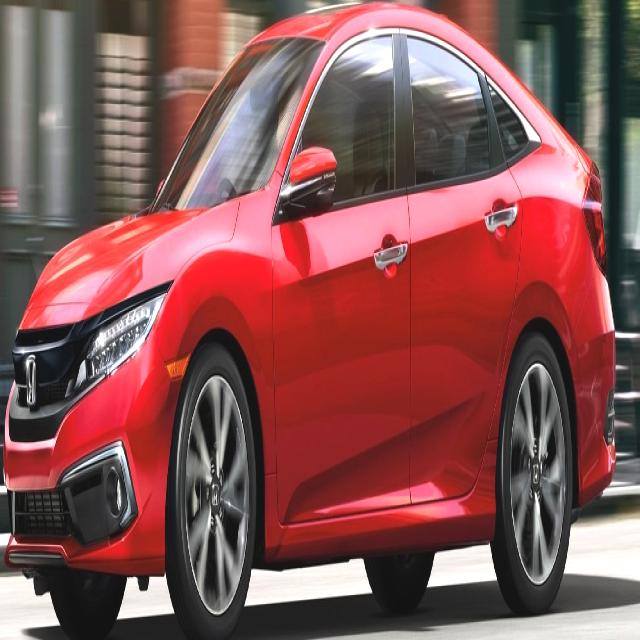red: (2, 4, 618, 640)
